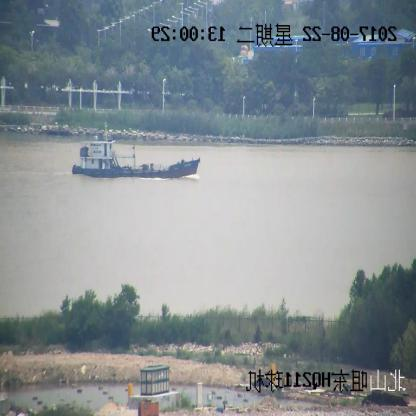Fishing Boat: (71, 124, 200, 177)
